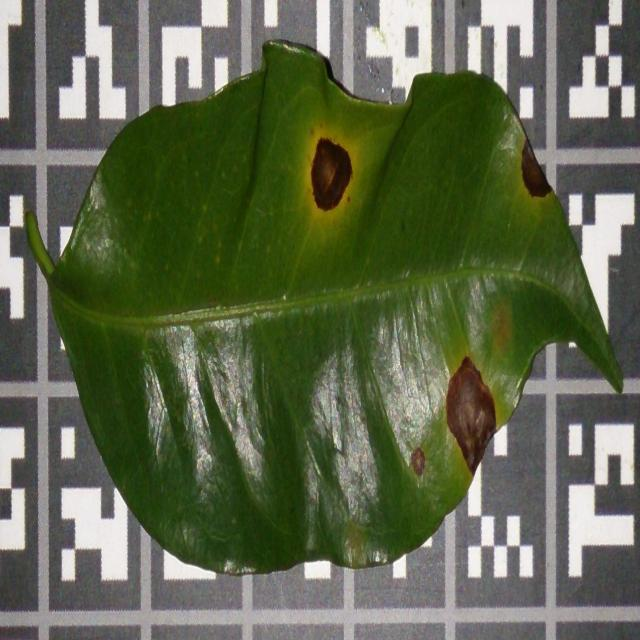Enfermedad-Mancha-de-hierro: (24, 43, 623, 579)
